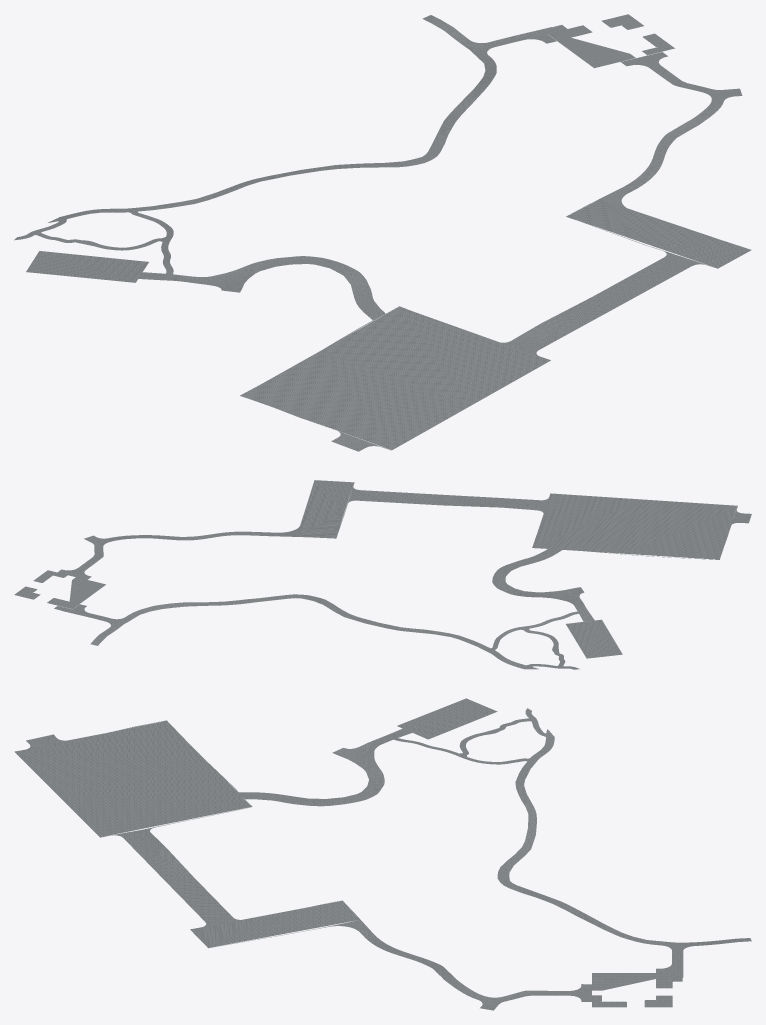
The model's file is pavement.obj.
The picture shows the model from 3 angles, top to bottom: view 1: azimuth 30°, elevation 25°; view 2: azimuth 150°, elevation 25°; view 3: azimuth 270°, elevation 25°; orthographic projection. The views are drawn at different scales.
Size of the model in its own units: 586 by 11.43 by 596.
1 material, 1 textured.
